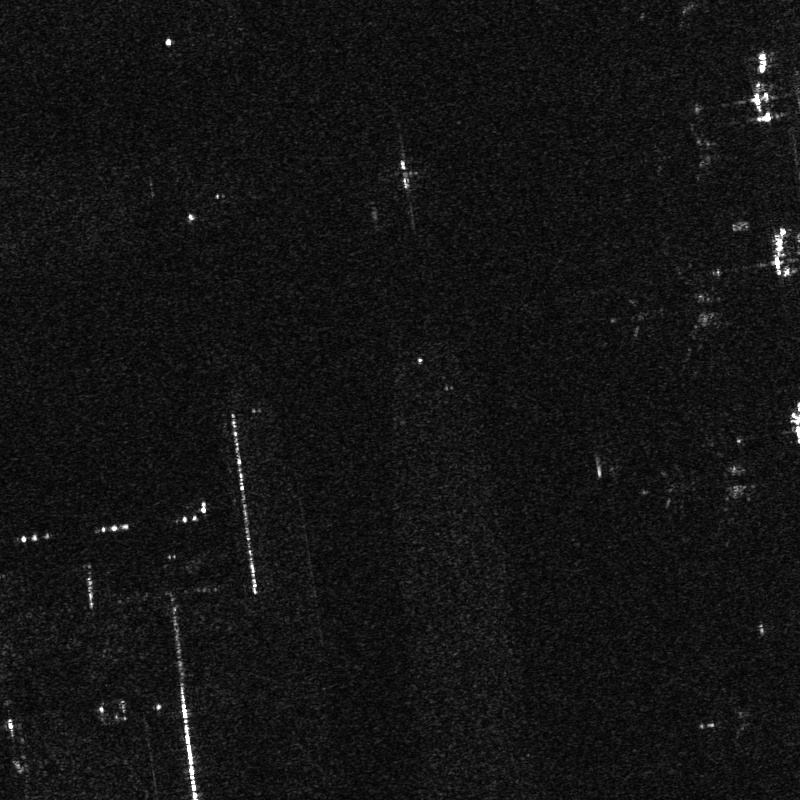Boeing787: (610, 255, 734, 374), (656, 429, 760, 540), (654, 119, 729, 180), (692, 688, 762, 747)
